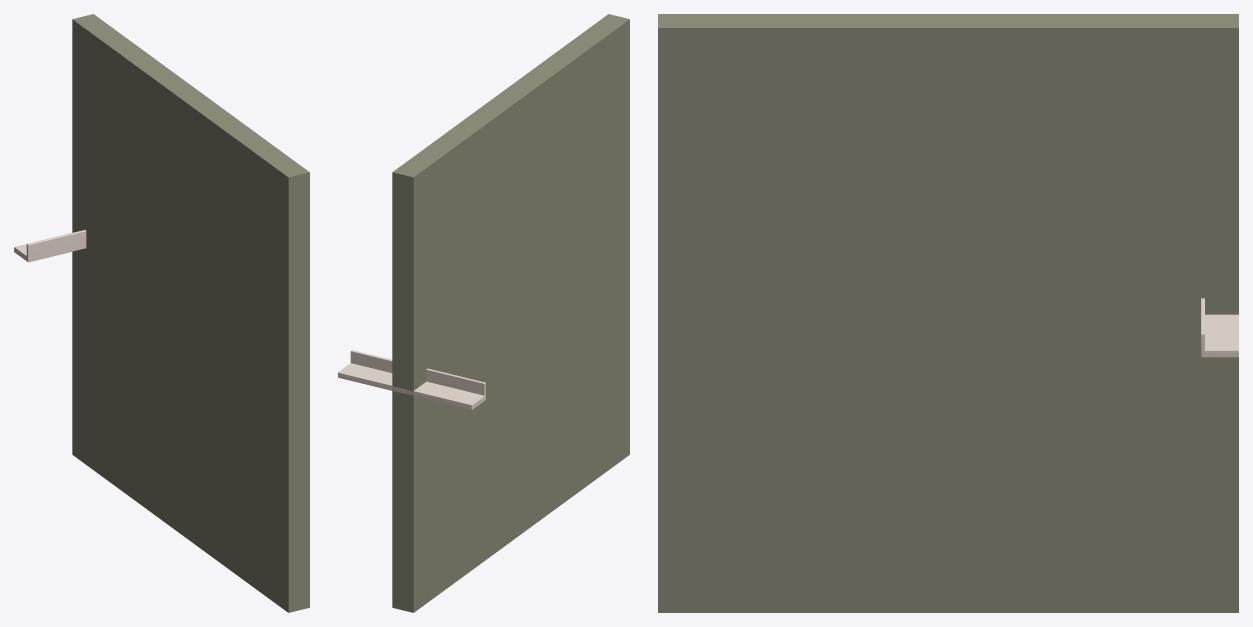
Rendered from Cabinet_9b8b28f6.obj.
The picture shows the model from 3 angles, left to right: view 1: azimuth 30°, elevation 25°; view 2: azimuth 150°, elevation 25°; view 3: azimuth 270°, elevation 25°; orthographic projection. The views are drawn at different scales.
Visible parts, largest first — view 1: FP418:Door_3f680b63, handle_3_178mm_01_a2b38284; view 2: FP418:Door_3f680b63, handle_3_178mm_01_a2b38284; view 3: FP418:Door_3f680b63, handle_3_178mm_01_a2b38284.
Part boxes in pixels (x1,y1,x2,y2): FP418:Door_3f680b63: (72, 14, 309, 612); handle_3_178mm_01_a2b38284: (14, 230, 86, 262); FP418:Door_3f680b63: (392, 14, 629, 612); handle_3_178mm_01_a2b38284: (338, 350, 485, 410); FP418:Door_3f680b63: (658, 14, 1238, 612); handle_3_178mm_01_a2b38284: (1201, 298, 1238, 357).
Size of the model in its own units: 0.178 by 0.5523 by 0.497.
